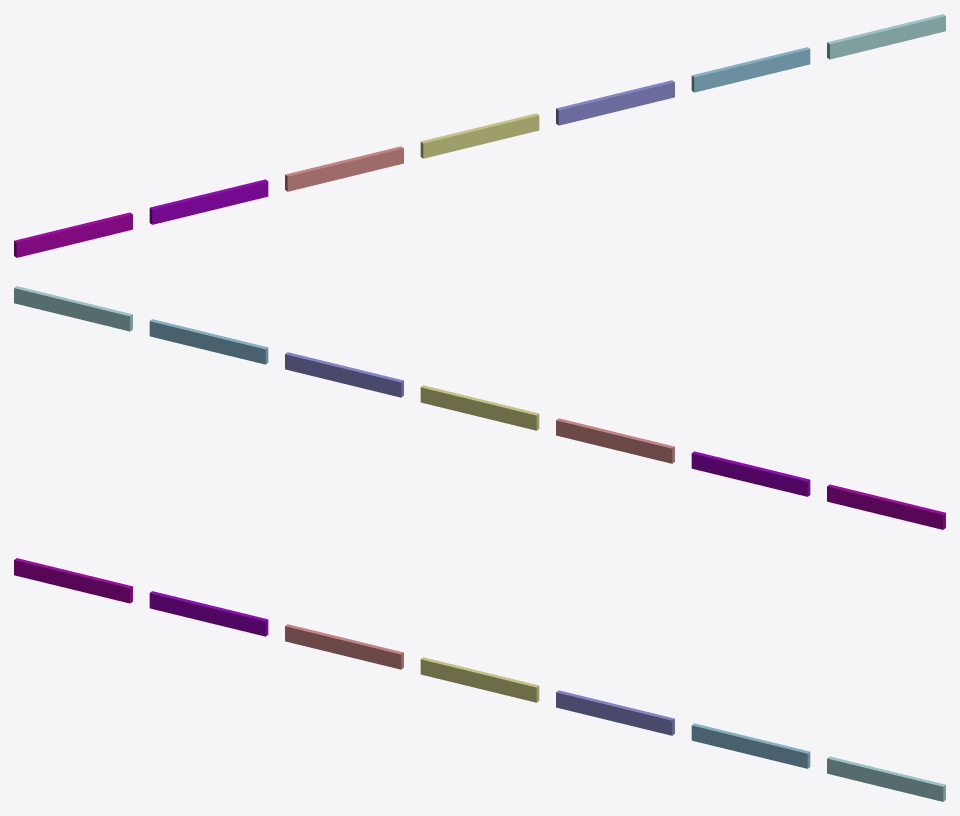
The model's file is electromagnetic_spectrum.glb.
The picture shows the model from 3 angles, top to bottom: view 1: azimuth 30°, elevation 25°; view 2: azimuth 150°, elevation 25°; view 3: azimuth 330°, elevation 25°; orthographic projection.
Parts seen in each view (by area): view 1: world; view 2: world; view 3: world.
Part boxes in pixels (x1,y1,x2,y2): world: (14,14,945,257); world: (14,286,945,529); world: (14,558,945,801).
Size of the model in its own units: 9.6 by 0.15 by 0.05.
